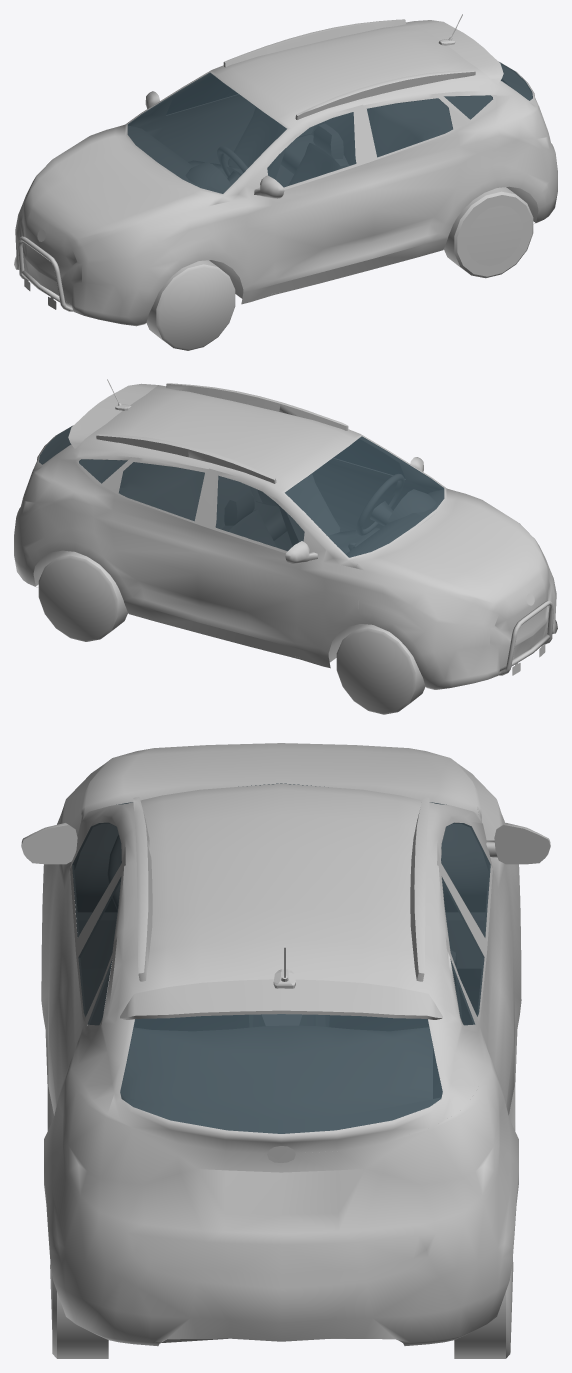
File: Low Poly Car with Interior 6_Black.FBX
3 views of the same model, one above another, from view 1: azimuth 30°, elevation 25°; view 2: azimuth 150°, elevation 25°; view 3: azimuth 270°, elevation 25° (orthographic). The views are drawn at different scales.
Parts seen in each view (by area): view 1: Low Poly Car with Interior 6_Black, Black Wheel_BL, Black Wheel_FL; view 2: Low Poly Car with Interior 6_Black, Black Wheel_BR, Black Wheel_FR, black_Steering; view 3: Low Poly Car with Interior 6_Black, Black Wheel_BR, Black Wheel_BL.
Part boxes in pixels (box(x1,y1,x2,y2)): Low Poly Car with Interior 6_Black: box(14, 14, 557, 326); Black Wheel_BL: box(444, 187, 533, 278); Black Wheel_FL: box(146, 260, 235, 350); Low Poly Car with Interior 6_Black: box(14, 379, 557, 689); Black Wheel_BR: box(38, 551, 127, 641); Black Wheel_FR: box(336, 624, 425, 714); black_Steering: box(356, 474, 403, 535); Low Poly Car with Interior 6_Black: box(21, 743, 550, 1346); Black Wheel_BR: box(454, 1258, 513, 1358); Black Wheel_BL: box(50, 1262, 108, 1358).
Bounding box in the file's own units: 5.43 × 2.25 × 2.52.
